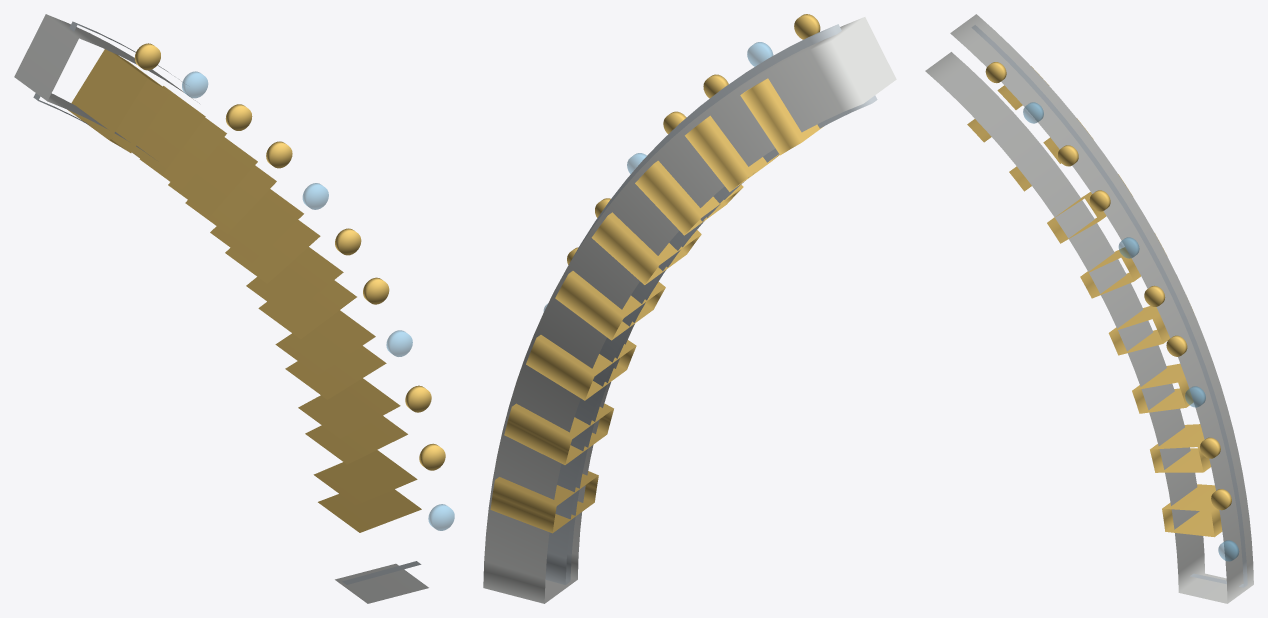
Rendered from 05_L87_HabitatSegmentA.glb.
3 views of the same model, side by side, from view 1: azimuth 30°, elevation 25°; view 2: azimuth 150°, elevation 25°; view 3: azimuth 330°, elevation 25° (orthographic). The views are drawn at different scales.
Parts seen in each view (by area): view 1: L87_HabitatSegmentA_Part_0003, L87_HabitatSegmentA_Part_0000, L87_HabitatSegmentA_Part_0002, L87_HabitatSegmentA_Part_0001; view 2: L87_HabitatSegmentA_Part_0000, L87_HabitatSegmentA_Part_0003, L87_HabitatSegmentA_Part_0001, L87_HabitatSegmentA_Part_0002; view 3: L87_HabitatSegmentA_Part_0000, L87_HabitatSegmentA_Part_0003, L87_HabitatSegmentA_Part_0001, L87_HabitatSegmentA_Part_0002.
Part boxes in pixels (x1,y1,x2,y2): L87_HabitatSegmentA_Part_0003: (67,43,445,532); L87_HabitatSegmentA_Part_0000: (14,14,428,603); L87_HabitatSegmentA_Part_0002: (182,71,454,530); L87_HabitatSegmentA_Part_0001: (33,21,421,584); L87_HabitatSegmentA_Part_0000: (483,17,896,603); L87_HabitatSegmentA_Part_0003: (490,14,822,533); L87_HabitatSegmentA_Part_0001: (545,24,877,584); L87_HabitatSegmentA_Part_0002: (543,42,773,311); L87_HabitatSegmentA_Part_0000: (925,14,1253,603); L87_HabitatSegmentA_Part_0003: (967,62,1231,537); L87_HabitatSegmentA_Part_0001: (971,25,1247,587); L87_HabitatSegmentA_Part_0002: (1023,102,1239,561).
Bounding box in the file's own units: 3.05 × 4.63 × 0.5975.
